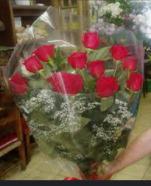RedRose: (46, 70, 85, 97), (94, 74, 122, 96), (6, 73, 28, 99), (34, 41, 59, 63), (85, 58, 108, 79), (82, 29, 102, 50), (110, 38, 128, 61), (126, 73, 146, 93), (20, 56, 41, 75), (66, 49, 86, 68), (122, 55, 140, 75)
